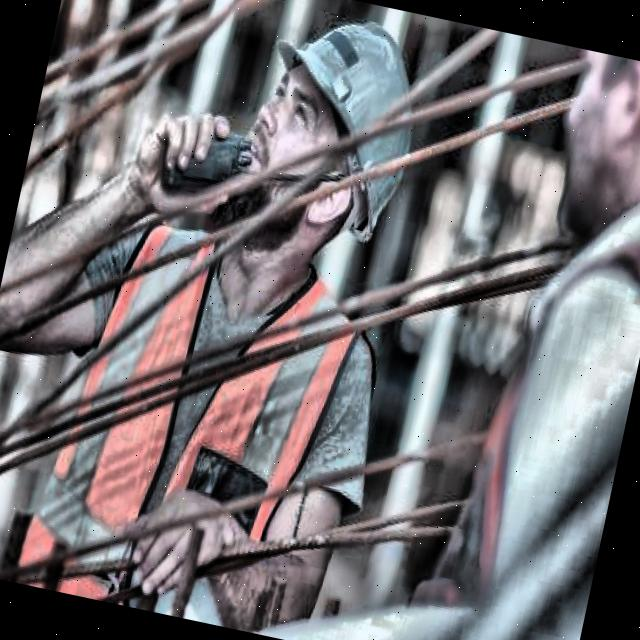helmet: (208, 0, 432, 242)
